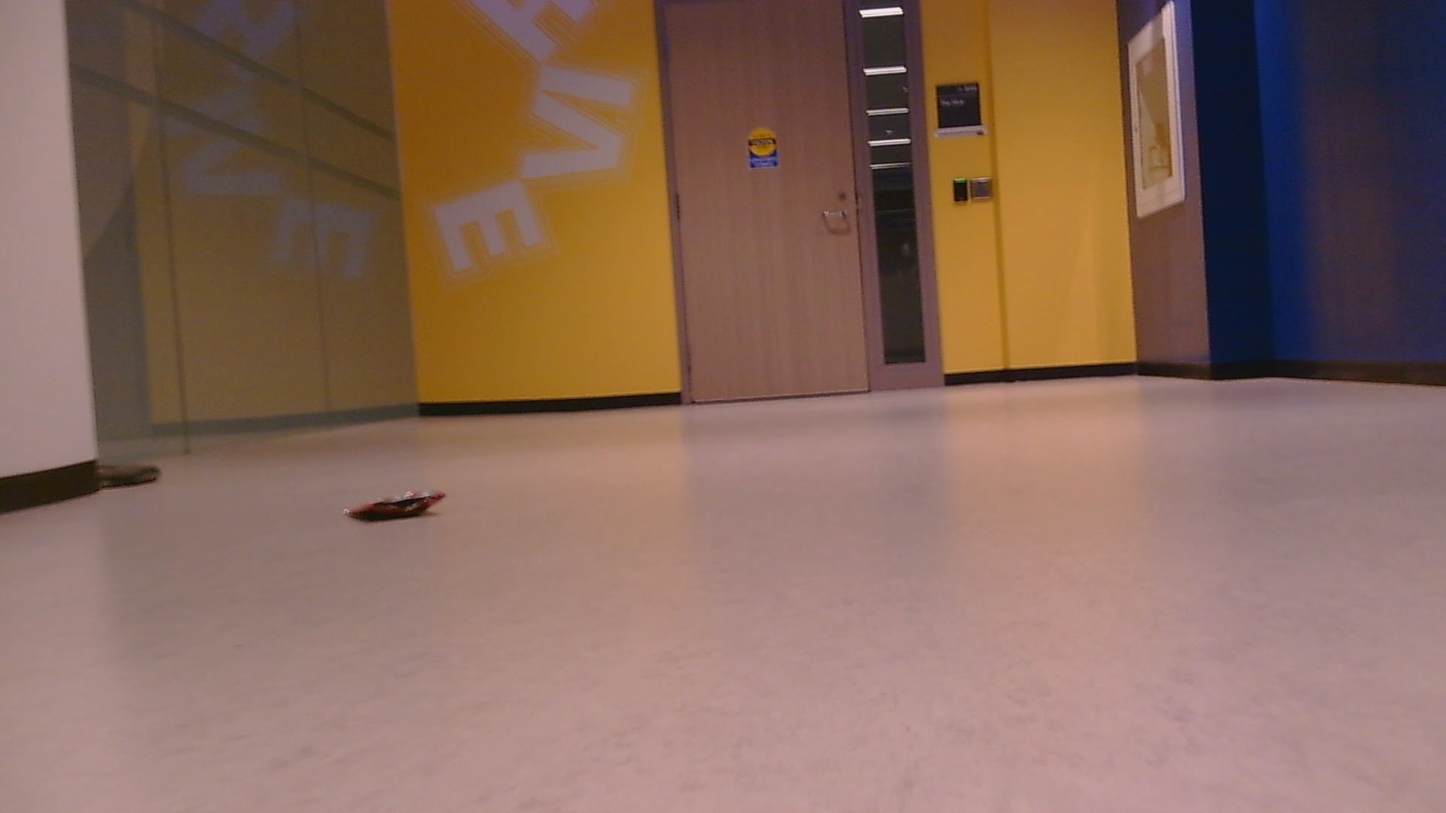can: (342, 489, 447, 524), (94, 460, 161, 492)
